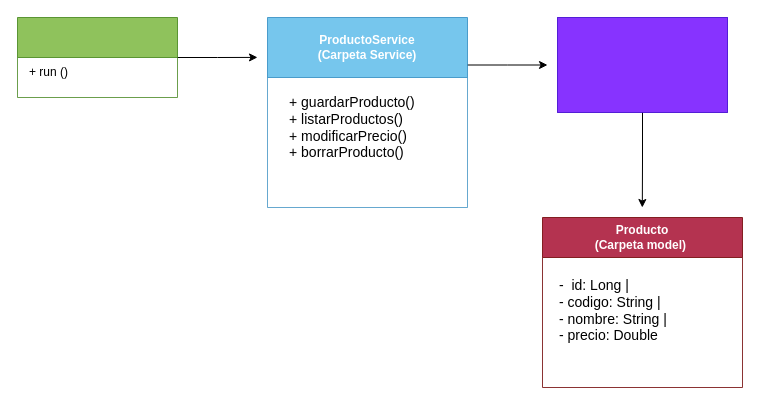
Some shapes in this 760 by 405 pixel diagram are drawn without their labels. The shapes that lost their labels are listed below. From the top down, each one's box as (x1, y1, x2, y2) in pixels, then its label:
(16, 16, 178, 98): DemoRunner (Carpeta Runner)
(556, 16, 728, 112): Interface ProductoRepository (Carpeta repository)
